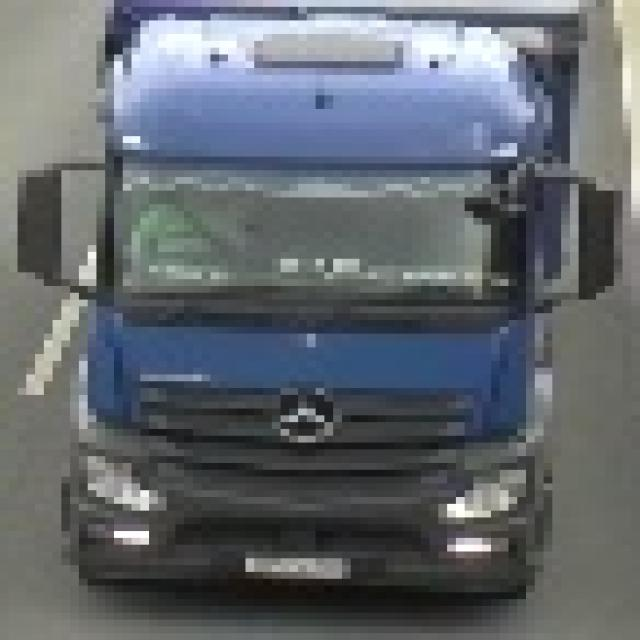TRUCK: (18, 0, 622, 599)
